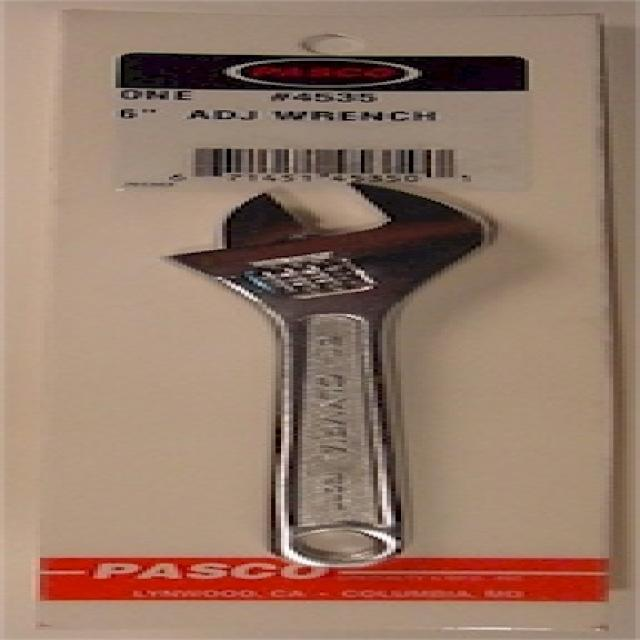wrench: (131, 174, 518, 572)
